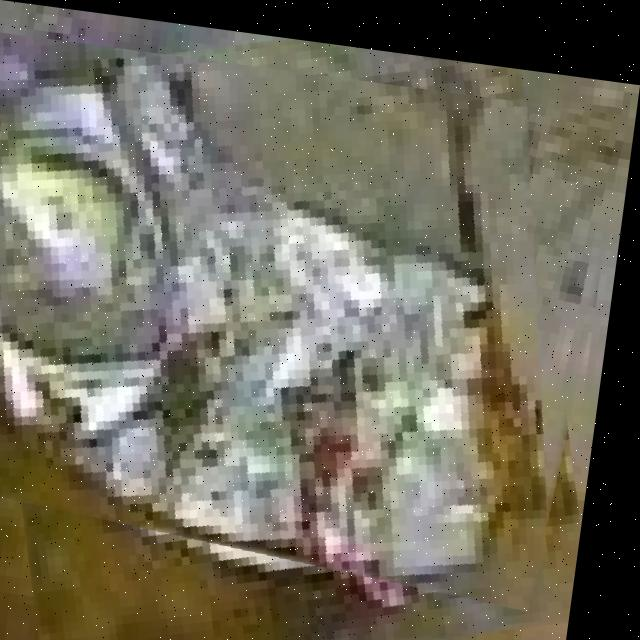litter: (0, 44, 565, 595)
